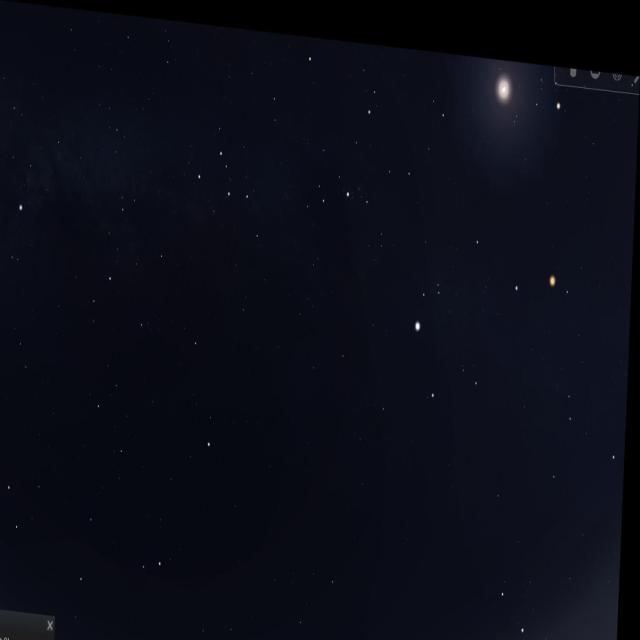cassiopeia: (186, 120, 272, 257)
moon: (476, 45, 530, 122)
pleiades: (465, 44, 485, 55)
